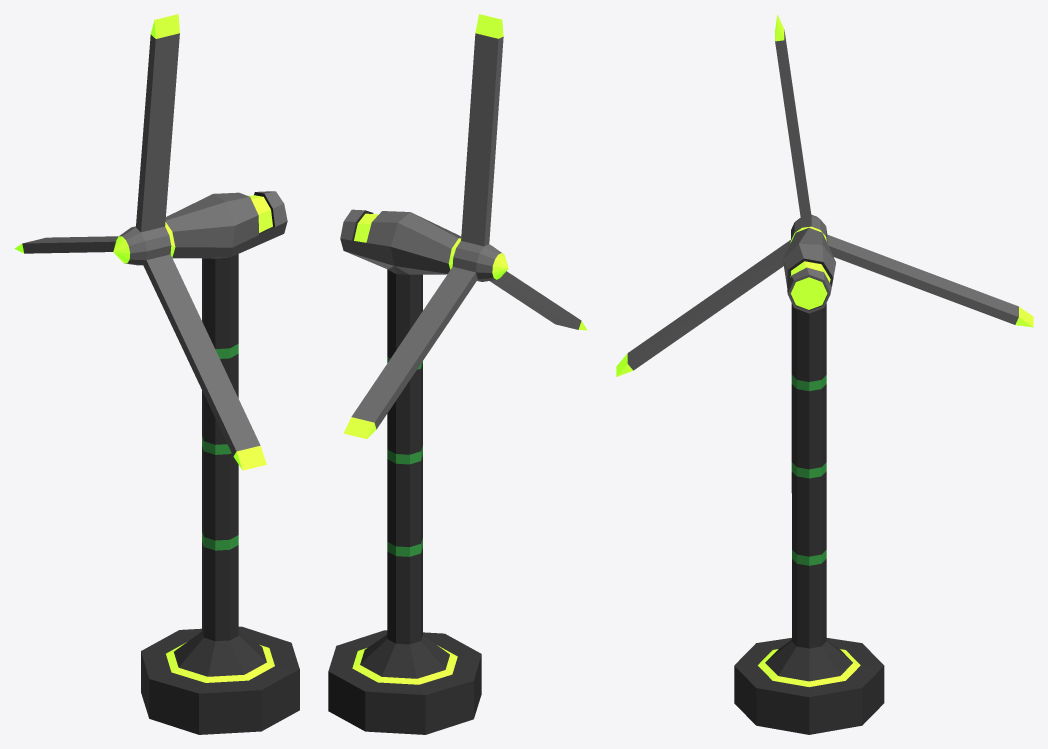
Rendered from GenTurbine.fbx.
The picture shows the model from 3 angles, left to right: view 1: azimuth 30°, elevation 25°; view 2: azimuth 150°, elevation 25°; view 3: azimuth 270°, elevation 25°; orthographic projection. The views are drawn at different scales.
Visible parts, largest first — view 1: Turbine; view 2: Turbine; view 3: Turbine.
Part boxes in pixels (box(x1,y1,x2,y2)): Turbine: box(14, 14, 299, 734); Turbine: box(328, 14, 587, 734); Turbine: box(616, 14, 1033, 734).
Bounding box in the file's own units: 825 × 3157 × 1831.
